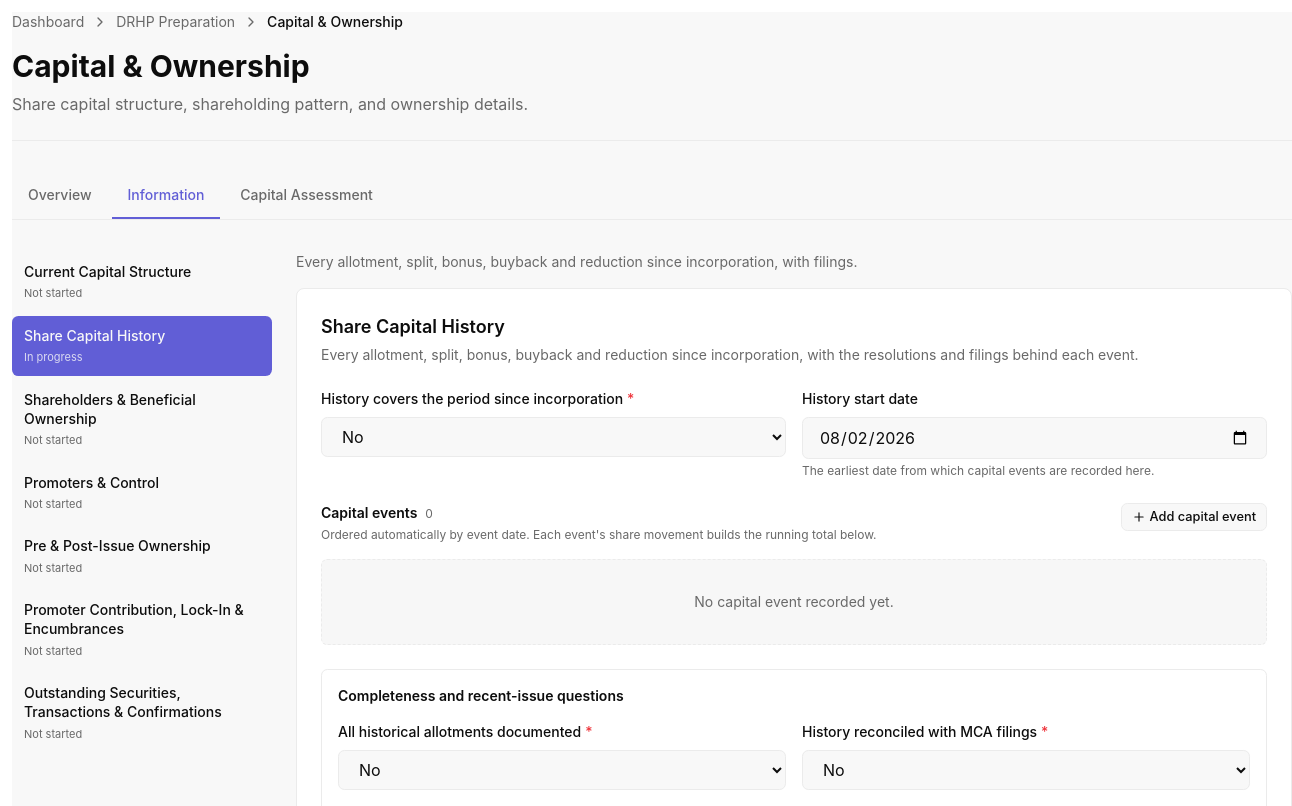
Test: Capital & Ownership workstream UI (C2 persistence) › prefills persisted Share Capital History values after reload
This screenshot has width=1292, height=806.
Expected: the dropdown labelled "History covers the period since incorporation*" shows "No", [321,417,786,457]
Expected: the date field labelled "History start date" holds "2026-08-02", [802,417,1267,459]
Click the tab "Overview": (60, 196) [12,173,108,219]
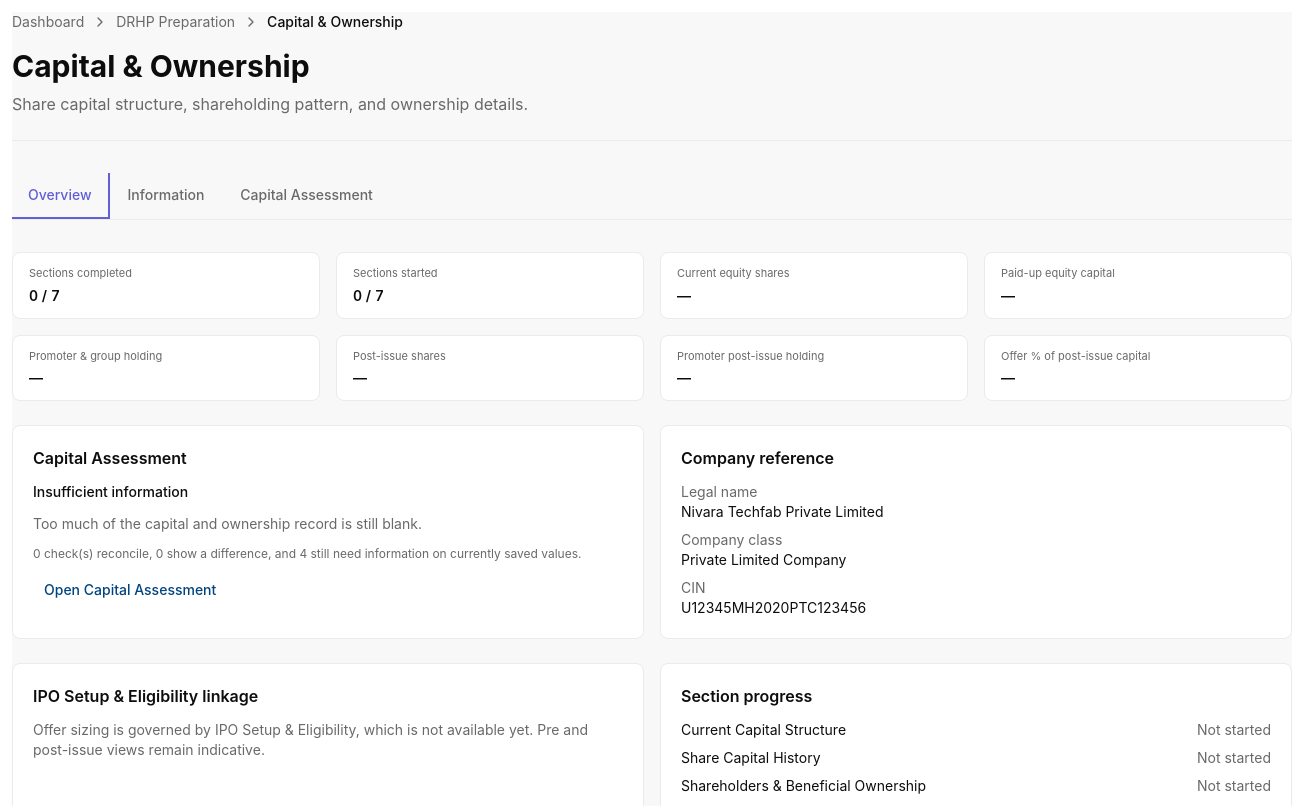
Result: the text "Sections started" is shown at [353,266,438,280]
